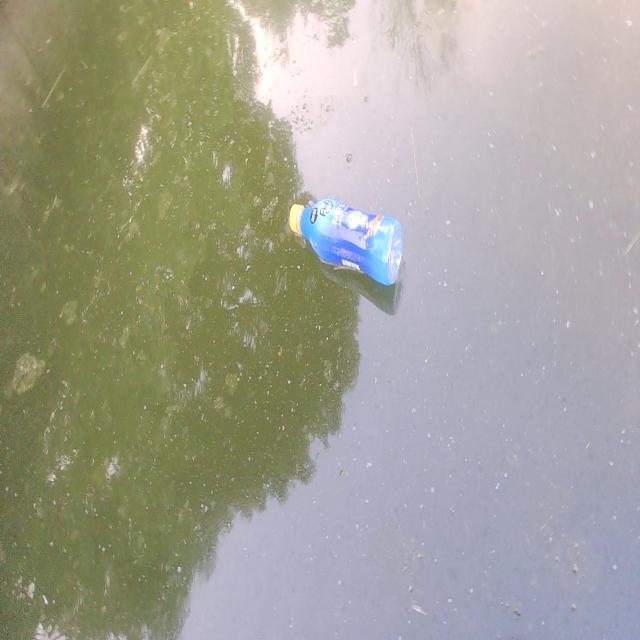bottle: (277, 168, 421, 308)
